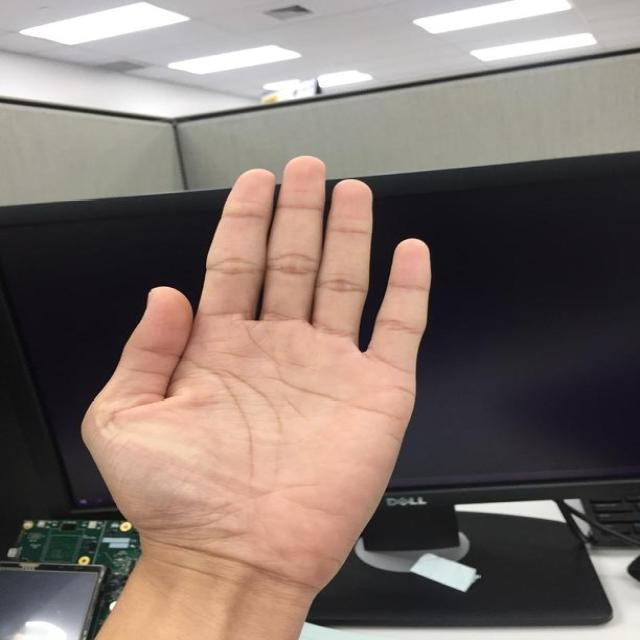hand: (81, 149, 436, 563)
